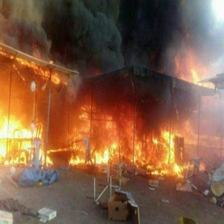fire: (81, 91, 201, 186), (8, 43, 71, 166), (163, 38, 222, 88)
